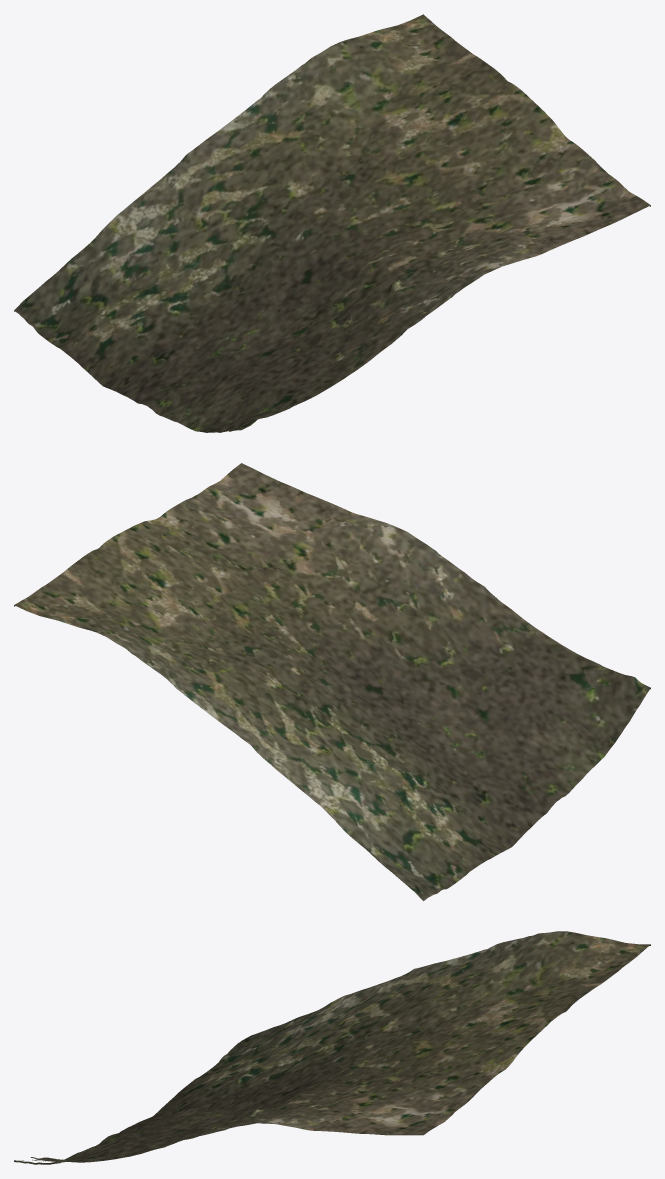
3 views of the same model, one above another, from view 1: azimuth 30°, elevation 25°; view 2: azimuth 150°, elevation 25°; view 3: azimuth 330°, elevation 25° (orthographic).
Bounding box in the file's own units: 250 × 122 × 241.
Materials: 1 (1 with a texture image).
